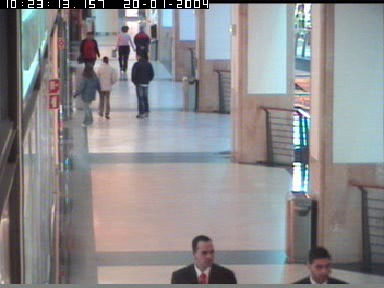person: (171, 235, 236, 285), (287, 247, 349, 285), (74, 63, 102, 126), (94, 55, 118, 118), (131, 54, 154, 117), (79, 31, 101, 85), (112, 26, 136, 72), (134, 26, 152, 65), (147, 8, 159, 39)
